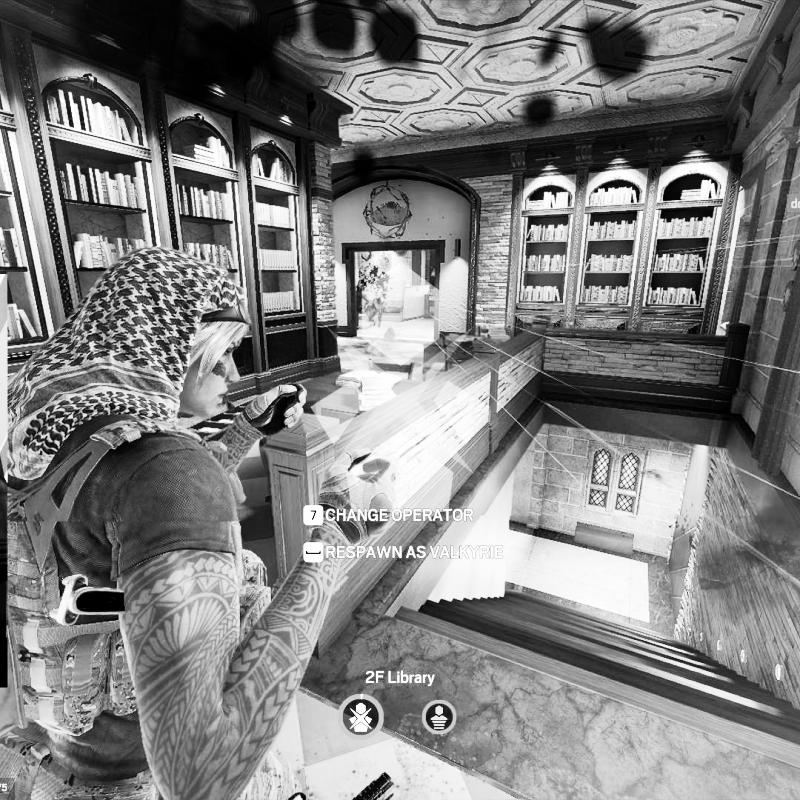Character: (6, 240, 408, 800), (363, 292, 389, 328), (356, 274, 370, 316)
Head: (78, 247, 253, 425), (380, 292, 388, 303), (363, 275, 369, 282)
